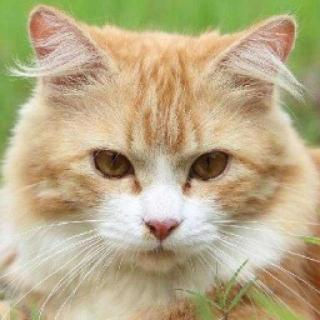cat: (22, 5, 296, 281)
nose: (139, 202, 184, 245)
